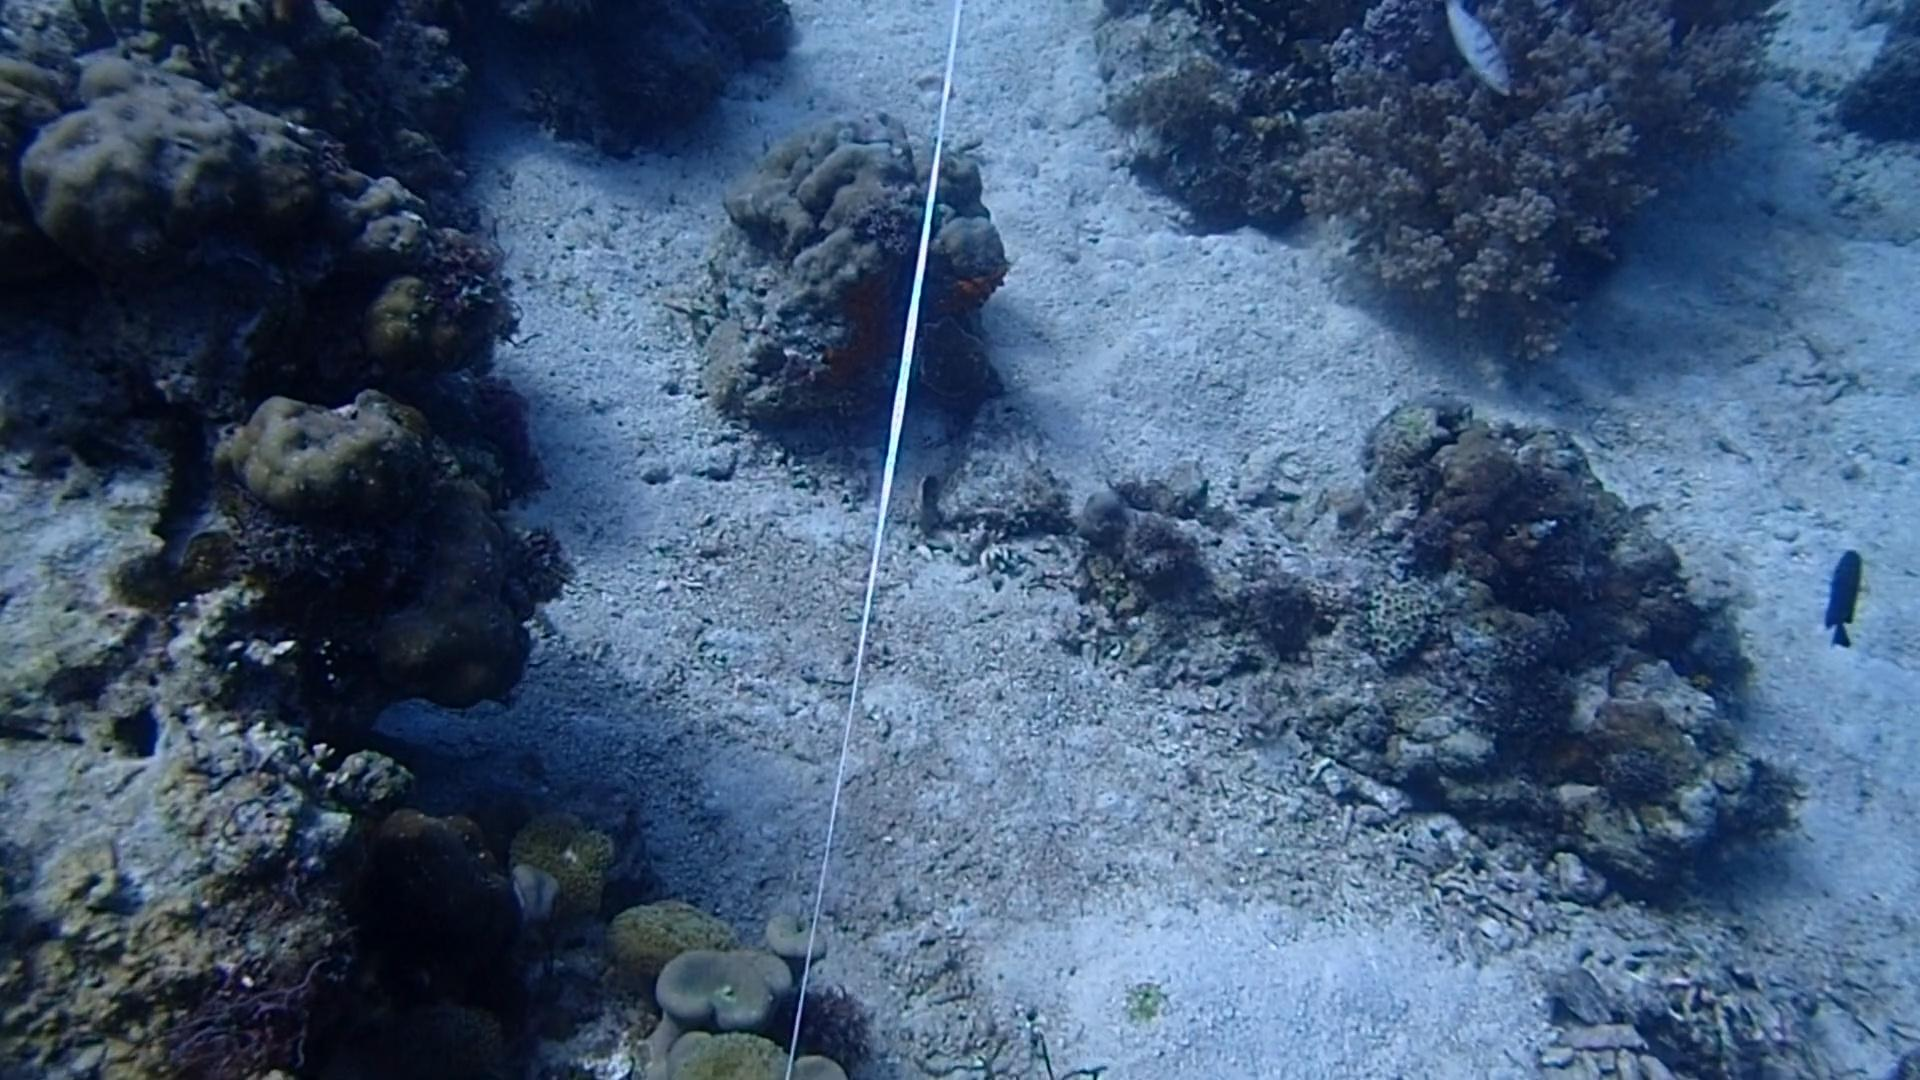Dark Fish: (1817, 539, 1876, 646)
